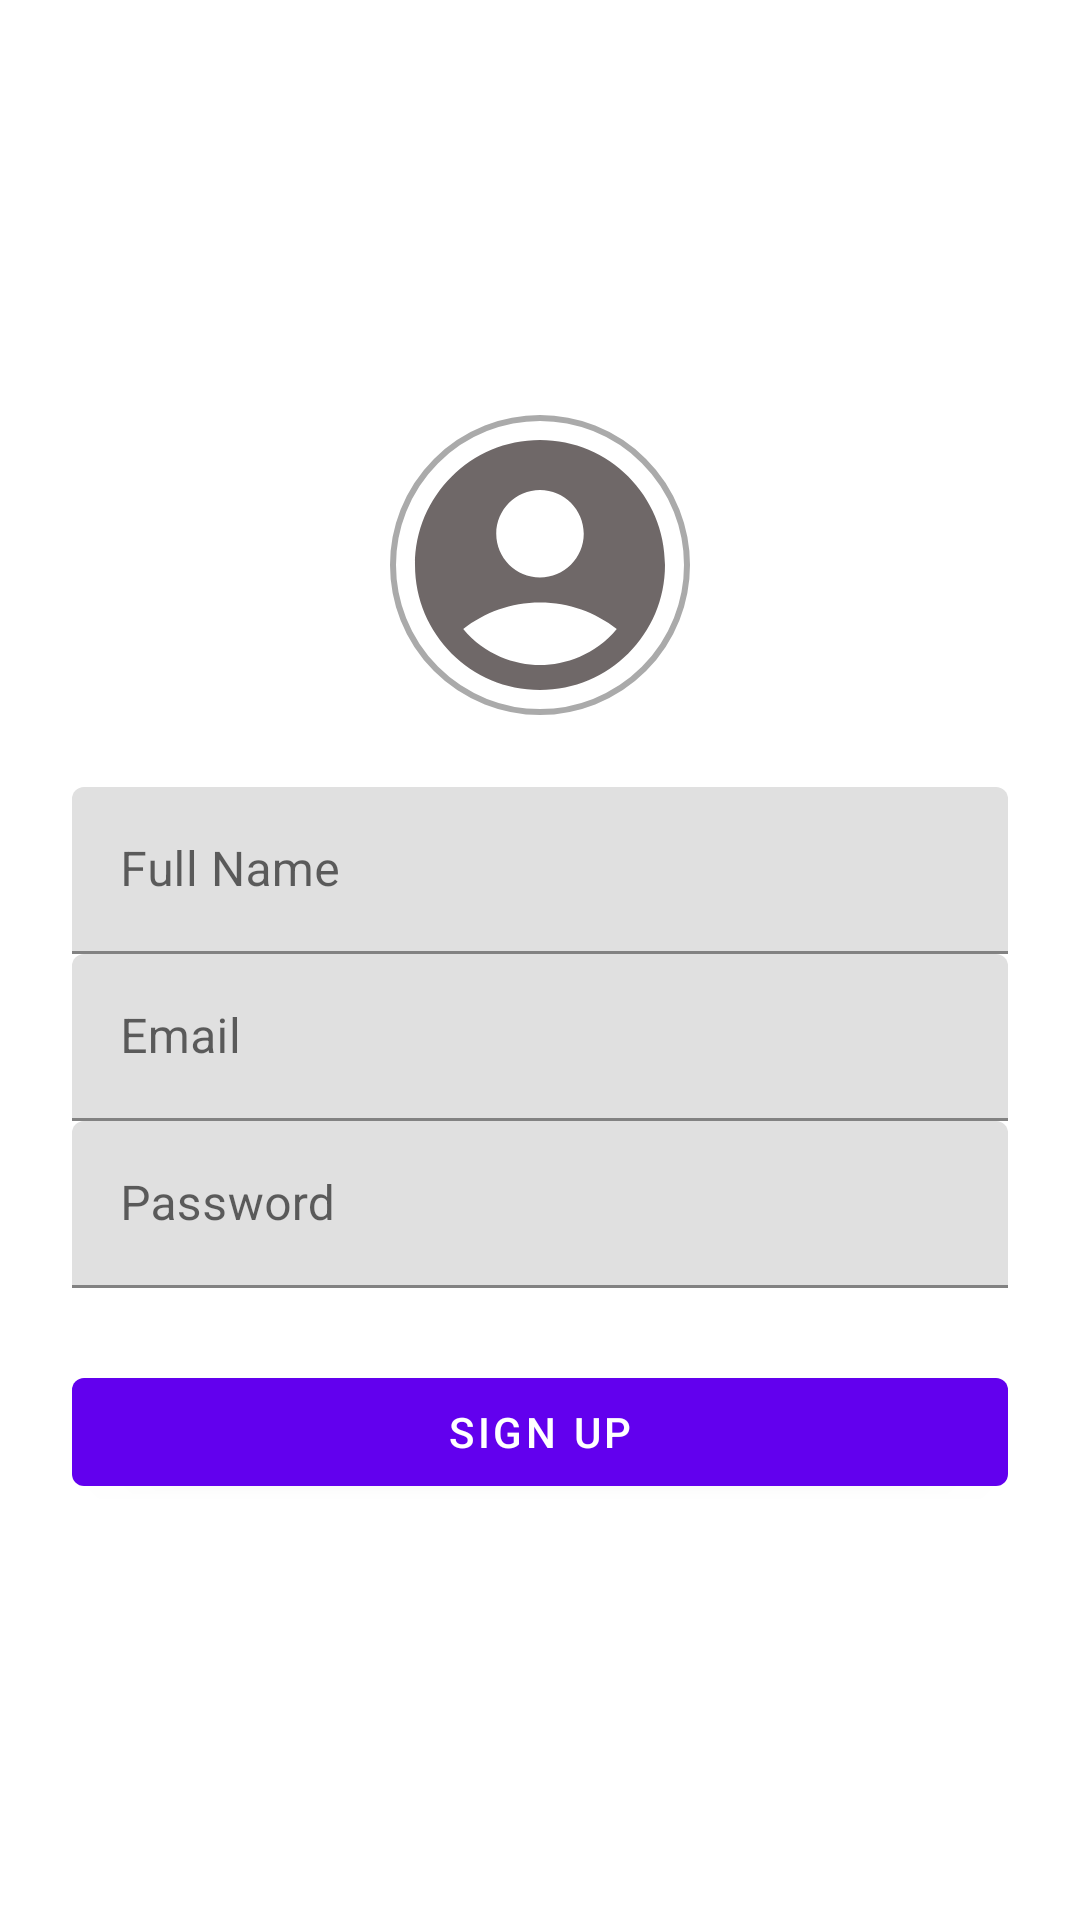

Locate icon controls on the screen. Image size 1080px×1920px, boxes as (x1, y1, x2, y2).
add profile: (390, 415, 690, 715)
